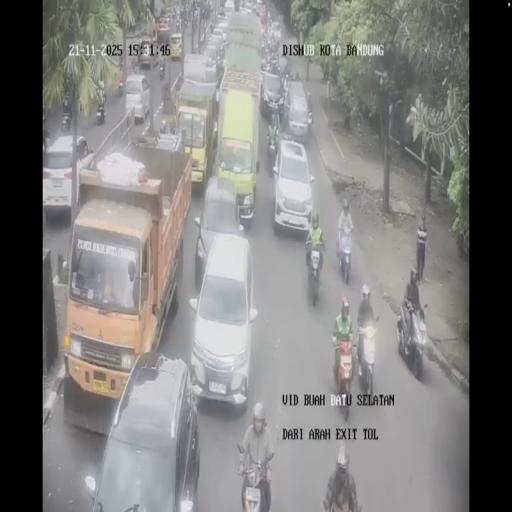3: (64, 130, 192, 413), (173, 78, 219, 192), (222, 5, 262, 83), (105, 56, 123, 96), (156, 20, 170, 60)
car: (193, 173, 244, 284), (42, 134, 92, 220), (272, 136, 314, 234), (282, 78, 312, 144), (124, 73, 150, 124), (260, 70, 286, 121), (202, 41, 224, 78), (138, 37, 152, 69), (170, 32, 182, 60), (269, 21, 282, 42), (216, 5, 228, 22), (217, 30, 227, 48), (255, 0, 264, 14), (243, 0, 253, 12), (224, 0, 234, 11)
truck: (396, 290, 428, 381), (237, 444, 272, 510), (331, 335, 357, 419), (355, 318, 380, 400), (306, 250, 322, 305), (337, 236, 353, 285), (267, 125, 279, 169), (262, 50, 280, 77), (281, 66, 291, 98), (42, 125, 50, 163), (96, 100, 105, 124), (61, 112, 71, 132), (158, 56, 166, 80), (131, 52, 139, 75), (153, 50, 159, 69), (182, 13, 188, 30), (175, 15, 181, 31)
